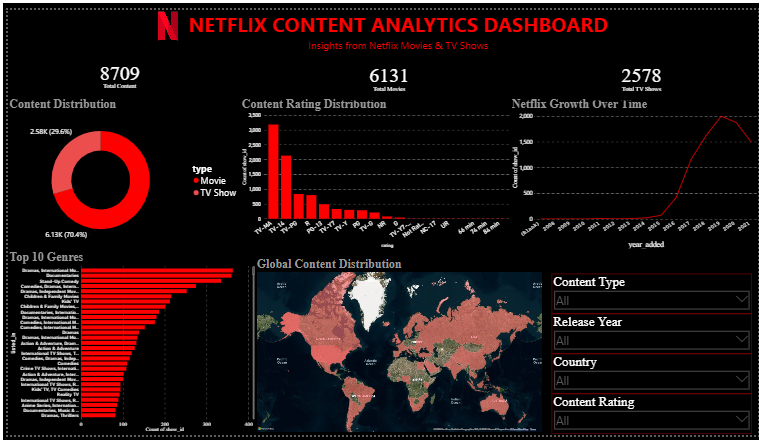

This screenshot's page, from the dashboard's own definition file:
{"tool":"powerbi","page":{"name":"Page 1","canvas":[3000,1700],"ordinal":0},"visuals":[{"type":"clusteredBarChart","title":"Top 10 Genres","fields":{"Category":["netflix_titles_cleaned.listed_in"],"Y":["CountNonNull(netflix_titles_cleaned.show_id)"]},"box":[0,960,992,736],"z":0},{"type":"clusteredColumnChart","title":"Content Rating Distribution","fields":{"Category":["netflix_titles_cleaned.rating"],"Y":["CountNonNull(netflix_titles_cleaned.show_id)"]},"box":[928,352,1088,608],"z":1000},{"type":"filledMap","title":"Global Content Distribution","fields":{"Category":["netflix_titles_cleaned.country"]},"box":[992,992,1152,704],"z":2000},{"type":"card","fields":{"Values":["netflix_titles_cleaned.Total Content"]},"box":[256,160,384,192],"z":3000},{"type":"lineChart","title":"Netflix Growth Over Time","fields":{"Category":["netflix_titles_cleaned.year_added"],"Y":["CountNonNull(netflix_titles_cleaned.show_id)"]},"box":[2008,352,992,608],"z":4000},{"type":"slicer","title":"Content Type","fields":{"Values":["netflix_titles_cleaned.type"]},"box":[2176,1056,800,160],"z":5000},{"type":"slicer","title":"Release Year","fields":{"Values":["netflix_titles_cleaned.release_year"]},"box":[2176,1216,800,160],"z":6000},{"type":"slicer","title":"Country","fields":{"Values":["netflix_titles_cleaned.country"]},"box":[2176,1376,800,160],"z":7000},{"type":"slicer","title":"Content Rating","fields":{"Values":["netflix_titles_cleaned.rating"]},"box":[2176,1536,800,160],"z":8000},{"type":"card","fields":{"Values":["netflix_titles_cleaned.Total Movies"]},"box":[1344,168,360,192],"z":9000},{"type":"card","fields":{"Values":["netflix_titles_cleaned.Total TV Shows"]},"box":[2328,168,408,192],"z":10000},{"type":"donutChart","title":"Content Distribution","fields":{"Category":["netflix_titles_cleaned.type"],"Y":["CountNonNull(netflix_titles_cleaned.show_id)"]},"box":[0,352,928,608],"z":11000},{"type":"textbox","title":"NETFLIX CONTENT ANALYTICS DASHBOARD","box":[384,0,2352,168],"z":12000},{"type":"image","box":[576,0,128,128],"z":13000}]}

Visuals, with their boxes in screenshot pixels (x1, y1, x2, y2), scaled from the page's 3000x1700 canvas onto the 762x443 screenshot:
"Top 10 Genres" clusteredBarChart: bbox=(0, 250, 252, 442)
"Content Rating Distribution" clusteredColumnChart: bbox=(236, 92, 512, 250)
"Global Content Distribution" filledMap: bbox=(252, 259, 545, 442)
card - netflix_titles_cleaned.Total Content: bbox=(65, 42, 163, 92)
"Netflix Growth Over Time" lineChart: bbox=(510, 92, 761, 250)
"Content Type" slicer: bbox=(553, 275, 756, 317)
"Release Year" slicer: bbox=(553, 317, 756, 359)
"Country" slicer: bbox=(553, 359, 756, 400)
"Content Rating" slicer: bbox=(553, 400, 756, 442)
card - netflix_titles_cleaned.Total Movies: bbox=(341, 44, 433, 94)
card - netflix_titles_cleaned.Total TV Shows: bbox=(591, 44, 695, 94)
"Content Distribution" donutChart: bbox=(0, 92, 236, 250)
"NETFLIX CONTENT ANALYTICS DASHBOARD" textbox: bbox=(98, 0, 695, 44)
image: bbox=(146, 0, 179, 33)
